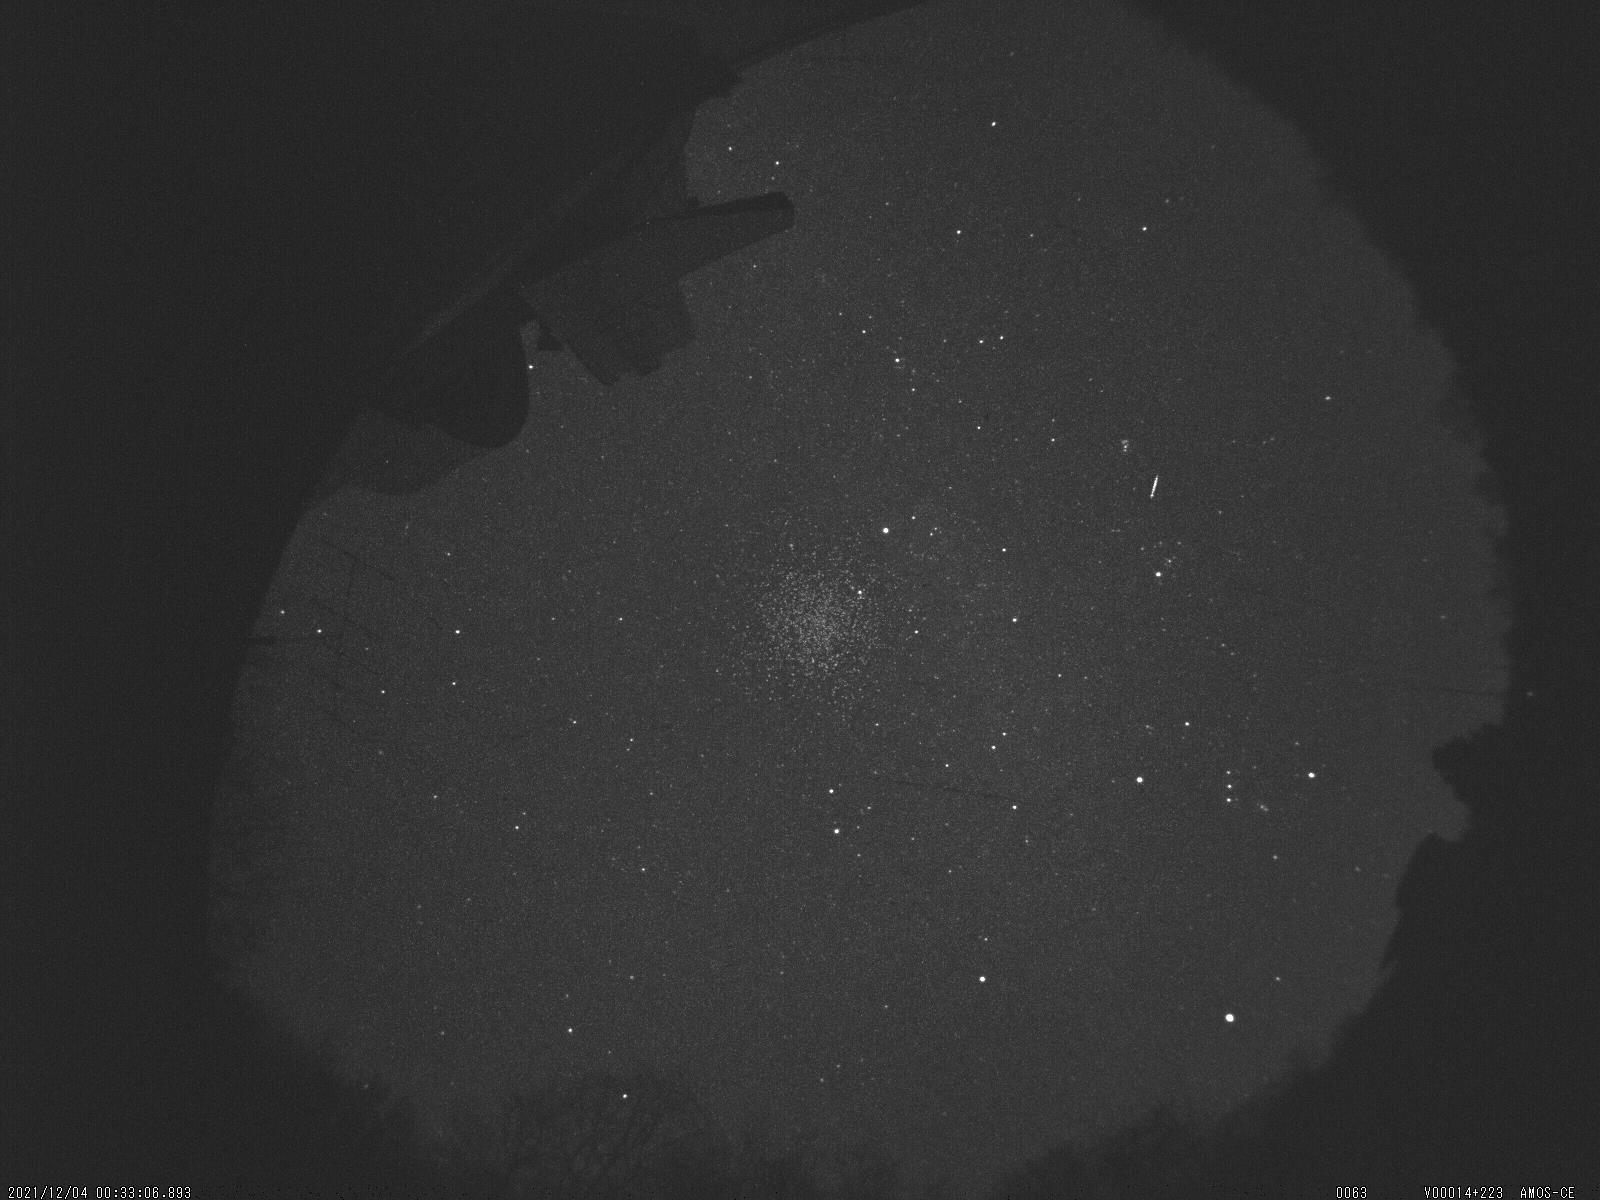Meteor: (1138, 465, 1175, 512)
